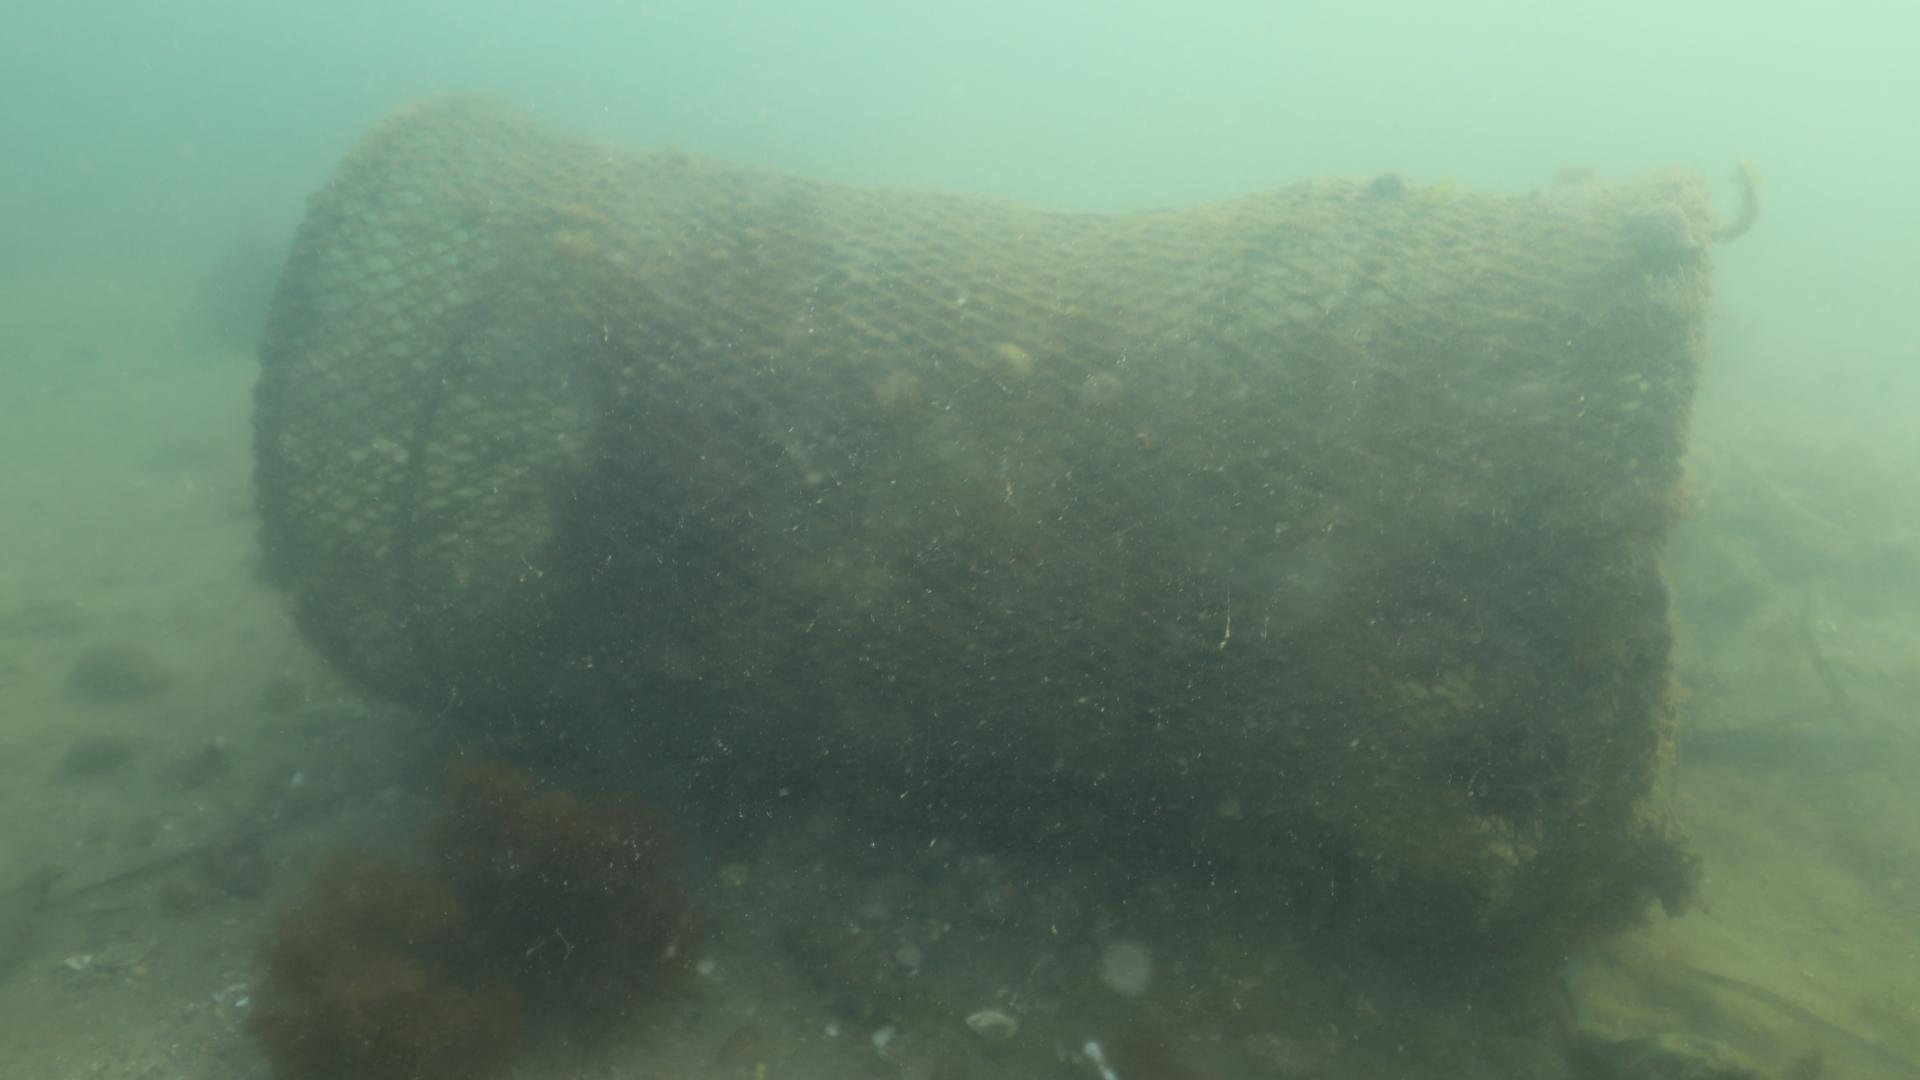spring fish trap: (243, 84, 1718, 957)
